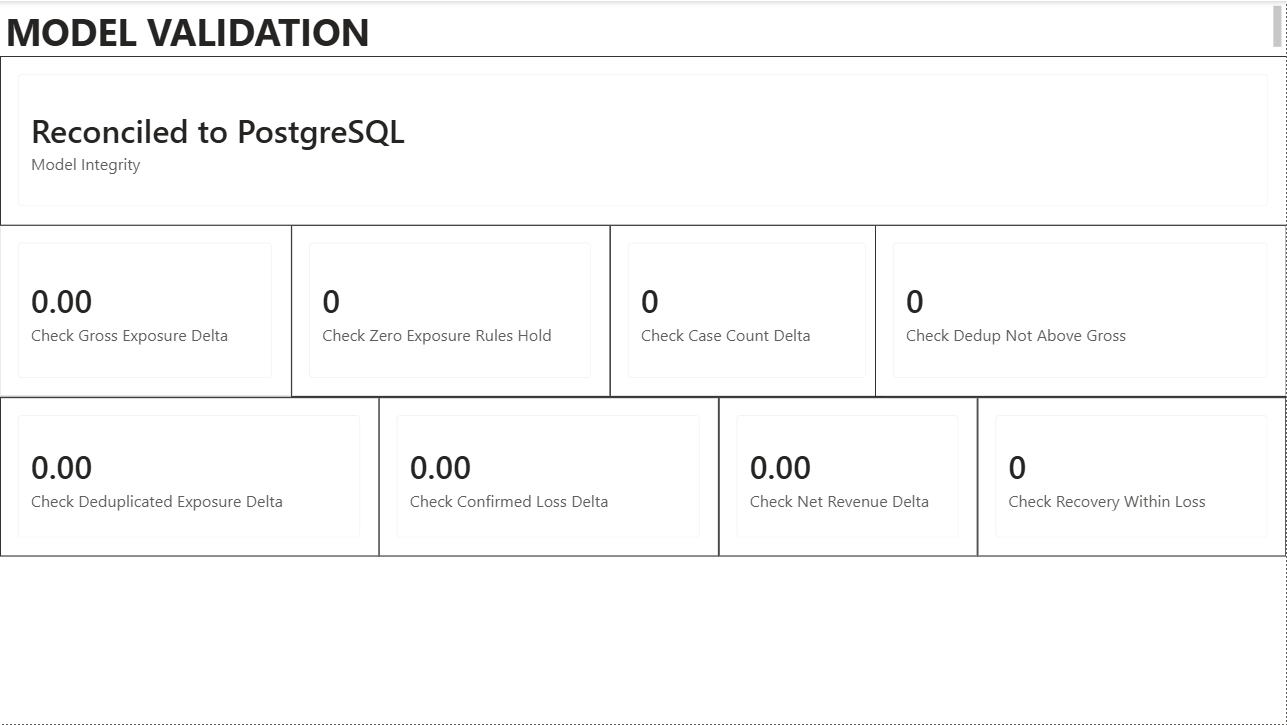

The page's visual inventory and layout, read from the dashboard file:
{"tool":"powerbi","page":{"name":"Model Validation","canvas":[1280,720],"ordinal":5},"visuals":[{"type":"cardVisual","fields":{"Data":["rpt_control_totals.Check Gross Exposure Delta"]},"box":[0,223.1,289.3,171.4],"z":0},{"type":"cardVisual","fields":{"Data":["rpt_control_totals.Check Deduplicated Exposure Delta"]},"box":[0,394.5,377.2,158.7],"z":1000},{"type":"cardVisual","fields":{"Data":["rpt_control_totals.Check Confirmed Loss Delta"]},"box":[377.2,394.5,338.2,158.7],"z":2000},{"type":"cardVisual","fields":{"Data":["rpt_control_totals.Check Case Count Delta"]},"box":[606.6,223.1,273.9,171.4],"z":3000},{"type":"cardVisual","fields":{"Data":["rpt_control_totals.Check Net Revenue Delta"]},"box":[715.5,394.5,257.5,158.7],"z":4000},{"type":"cardVisual","fields":{"Data":["rpt_control_totals.Check Dedup Not Above Gross"]},"box":[870.5,223.1,409.9,171.4],"z":5000},{"type":"cardVisual","fields":{"Data":["rpt_control_totals.Check Recovery Within Loss"]},"box":[973,394.5,307.4,158.7],"z":6000},{"type":"cardVisual","fields":{"Data":["rpt_control_totals.Check Zero Exposure Rules Hold"]},"box":[289.3,223.1,317.4,171.4],"z":7000},{"type":"cardVisual","fields":{"Data":["rpt_control_totals.Model Integrity"]},"box":[0,54.4,1280.4,168.7],"z":8000},{"type":"textbox","box":[0,0,1280.4,54.4],"z":9001}]}

Visuals, with their boxes in screenshot pixels (x1, y1, x2, y2), scaled from the page's 1280x720 canvas onto the 1287x725 screenshot:
cardVisual - rpt_control_totals.Check Gross Exposure Delta: bbox=(0, 225, 291, 397)
cardVisual - rpt_control_totals.Check Deduplicated Exposure Delta: bbox=(0, 397, 379, 557)
cardVisual - rpt_control_totals.Check Confirmed Loss Delta: bbox=(379, 397, 719, 557)
cardVisual - rpt_control_totals.Check Case Count Delta: bbox=(610, 225, 885, 397)
cardVisual - rpt_control_totals.Check Net Revenue Delta: bbox=(719, 397, 978, 557)
cardVisual - rpt_control_totals.Check Dedup Not Above Gross: bbox=(875, 225, 1286, 397)
cardVisual - rpt_control_totals.Check Recovery Within Loss: bbox=(978, 397, 1286, 557)
cardVisual - rpt_control_totals.Check Zero Exposure Rules Hold: bbox=(291, 225, 610, 397)
cardVisual - rpt_control_totals.Model Integrity: bbox=(0, 55, 1286, 225)
textbox: bbox=(0, 0, 1286, 55)
